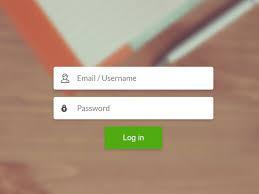button: (106, 127, 164, 149)
input: (55, 67, 214, 91), (55, 97, 214, 120)
